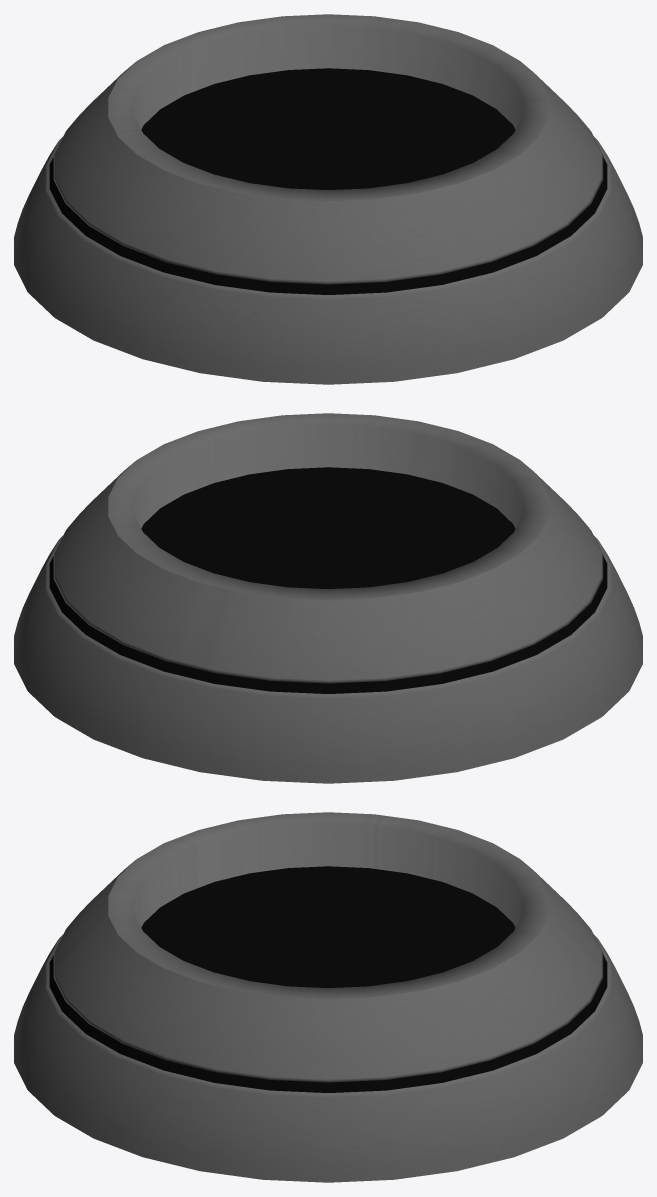
File: PlataformaSincronizacion.FBX
3 views of the same model, one above another, from view 1: azimuth 30°, elevation 25°; view 2: azimuth 150°, elevation 25°; view 3: azimuth 270°, elevation 25° (orthographic).
Parts seen in each view (by area): view 1: Base, Fondo; view 2: Base, Fondo; view 3: Base, Fondo.
Part boxes in pixels (x1,y1,x2,y2): Base: [14, 14, 642, 384]; Fondo: [141, 68, 515, 190]; Base: [14, 413, 642, 783]; Fondo: [141, 467, 515, 589]; Base: [14, 812, 642, 1182]; Fondo: [141, 866, 515, 988].
Bounding box in the file's own units: 1000 × 995 × 250.
Materials: 2 (1 with a texture image).
